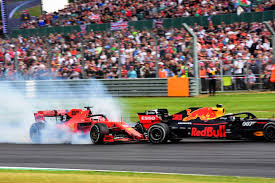FormulaOneCar: (133, 95, 275, 148), (23, 97, 153, 149)
